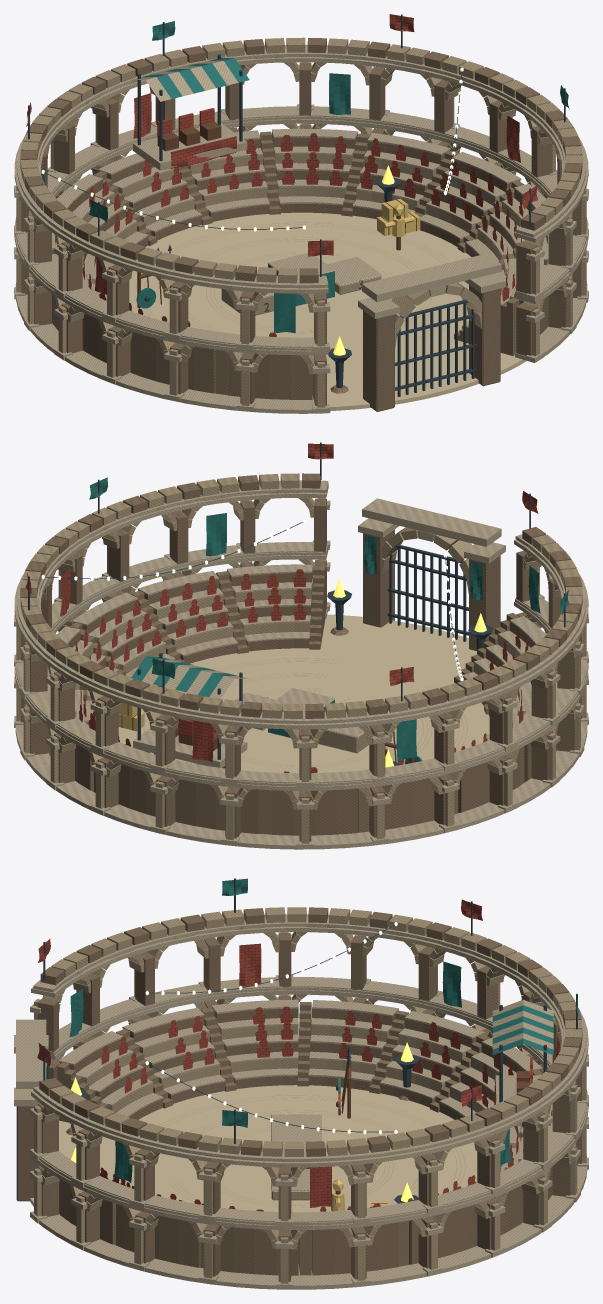
File: colosseum.glb
The picture shows the model from 3 angles, top to bottom: view 1: azimuth 30°, elevation 25°; view 2: azimuth 150°, elevation 25°; view 3: azimuth 270°, elevation 25°; orthographic projection.
Visible parts, largest first — view 1: architecture_worn, architecture_stone, architecture_wall, sand_floor, architecture_mortar, entry_lintel, stand_4_13, architecture_metal, gate, stand_4_12, architecture_sand_line, architecture_accent (+18 smaller); view 2: architecture_worn, architecture_wall, architecture_stone, sand_floor, architecture_mortar, stand_4_8, entry_lintel, stand_4_7, gate, architecture_metal, stand_4_9, stand_4_10 (+16 smaller); view 3: architecture_worn, architecture_wall, architecture_stone, sand_floor, architecture_mortar, stand_4_3, stand_4_2, stand_4_1, architecture_metal, stand_4_4, entry_lintel, architecture_sand_line (+27 smaller).
Boxes of the visible parts, x1,y1,x2,y2 form: architecture_worn: (14,44,588,413); architecture_stone: (20,38,581,411); architecture_wall: (16,37,586,407); sand_floor: (129,212,526,410); architecture_mortar: (52,131,548,399); entry_lintel: (362,253,501,302); stand_4_13: (227,354,312,399); architecture_metal: (28,14,565,387); gate: (397,300,474,396); stand_4_12: (138,333,215,393); architecture_sand_line: (135,222,467,339); architecture_accent: (136,58,249,308); architecture_worn: (14,480,588,849); architecture_wall: (16,473,586,843); architecture_stone: (20,473,582,841); sand_floor: (118,614,489,773); architecture_mortar: (47,566,525,834); stand_4_8: (272,788,357,835); entry_lintel: (362,498,501,546); stand_4_7: (176,779,259,833); gate: (389,545,466,641); architecture_metal: (28,442,565,765); stand_4_9: (385,778,434,829); stand_4_10: (458,749,520,812); architecture_worn: (14,914,588,1289); architecture_wall: (34,907,586,1283); architecture_stone: (16,907,581,1281); sand_floor: (30,1085,477,1275); architecture_mortar: (57,1002,552,1275); stand_4_3: (312,1222,398,1275); stand_4_2: (220,1227,298,1275); stand_4_1: (123,1207,200,1267); architecture_metal: (43,878,577,1203); stand_4_4: (409,1205,477,1264); entry_lintel: (16,1019,46,1088); architecture_sand_line: (159,1095,465,1207).
Bounding box in the file's own units: 21.17 × 7.05 × 20.81.
13 materials, 8 textured.
